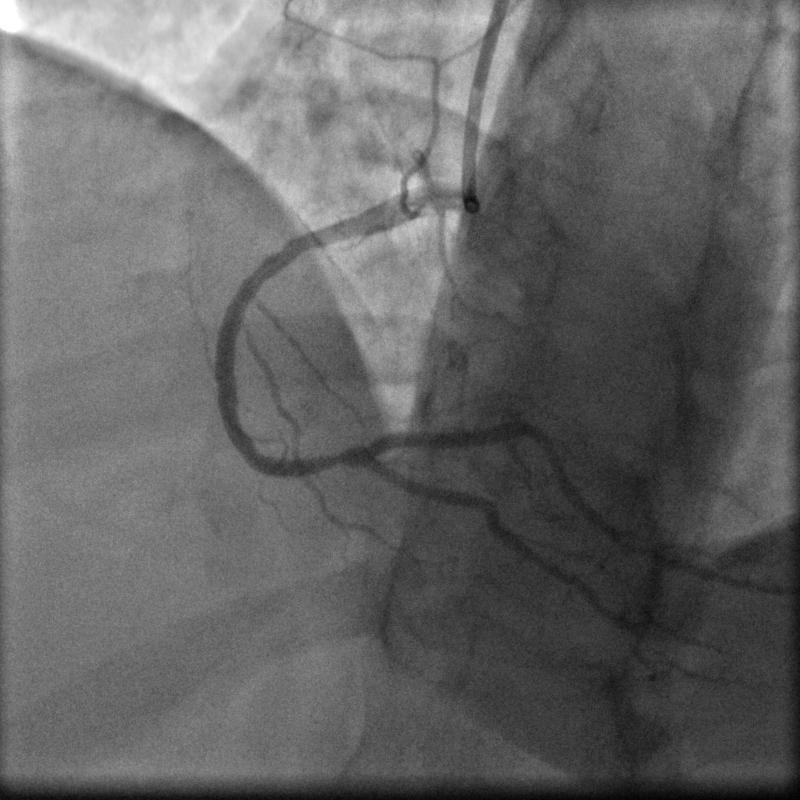Stenosis: (313, 448, 357, 474)
